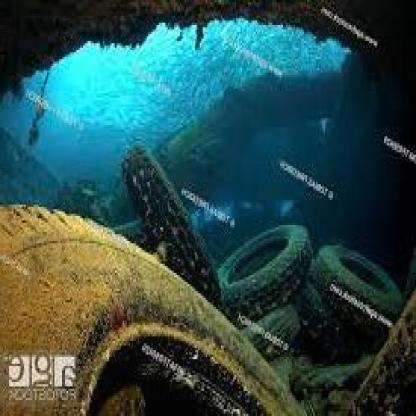tire: (124, 145, 231, 323), (312, 241, 407, 350), (210, 204, 304, 304)
